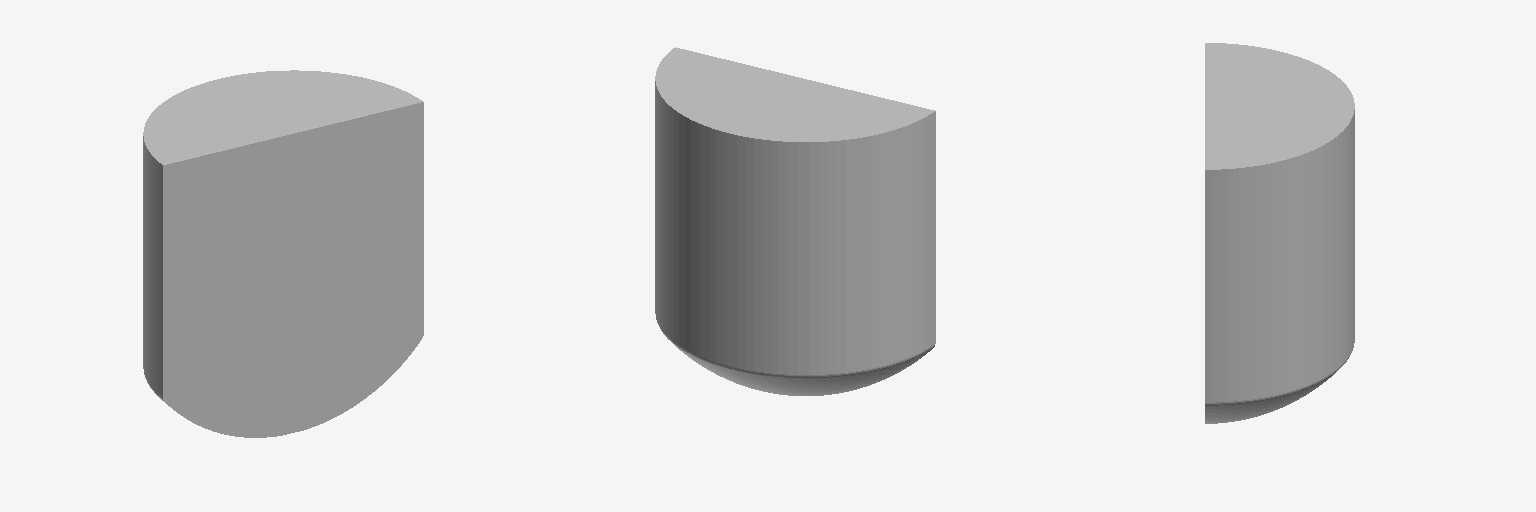
The model's file is Газовый_сепаратор_вода.obj.
The picture shows the model from 3 angles: view 1: azimuth 30°, elevation 25°; view 2: azimuth 150°, elevation 25°; view 3: azimuth 270°, elevation 25°; orthographic projection.
Visible parts, largest first — view 1: Цилиндр.008; view 2: Цилиндр.008; view 3: Цилиндр.008.
Part boxes in pixels (left/top/right/bottom): Цилиндр.008: left=143, top=70, right=423, bottom=437; Цилиндр.008: left=655, top=47, right=935, bottom=395; Цилиндр.008: left=1205, top=43, right=1354, bottom=423.
Size of the model in its own units: 2.62 by 2.88 by 1.3.